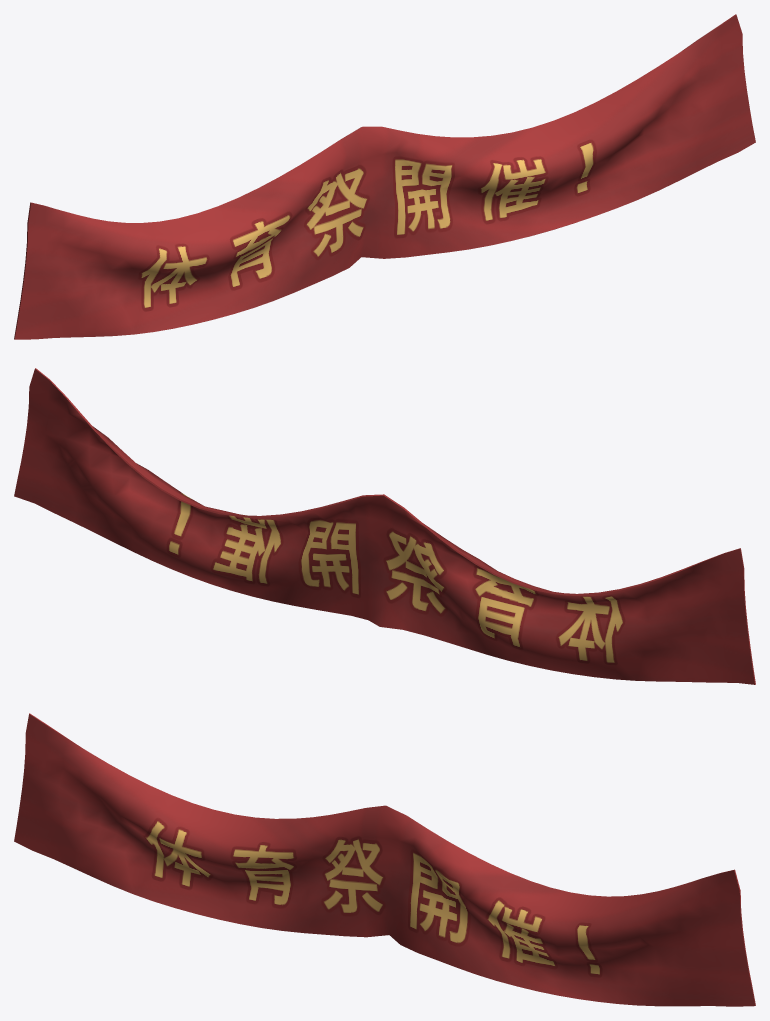
Rendered from SM_banner_sportfestival_02.fbx.
The picture shows the model from 3 angles, top to bottom: view 1: azimuth 30°, elevation 25°; view 2: azimuth 150°, elevation 25°; view 3: azimuth 330°, elevation 25°; orthographic projection.
Visible parts, largest first — view 1: banner03; view 2: banner03; view 3: banner03.
Boxes of the visible parts, x1,y1,x2,y2 form: banner03: (14,14,755,339); banner03: (14,368,755,684); banner03: (14,713,755,1006).
Bounding box in the file's own units: 146 × 33.38 × 8.98.
1 material, 1 textured.
